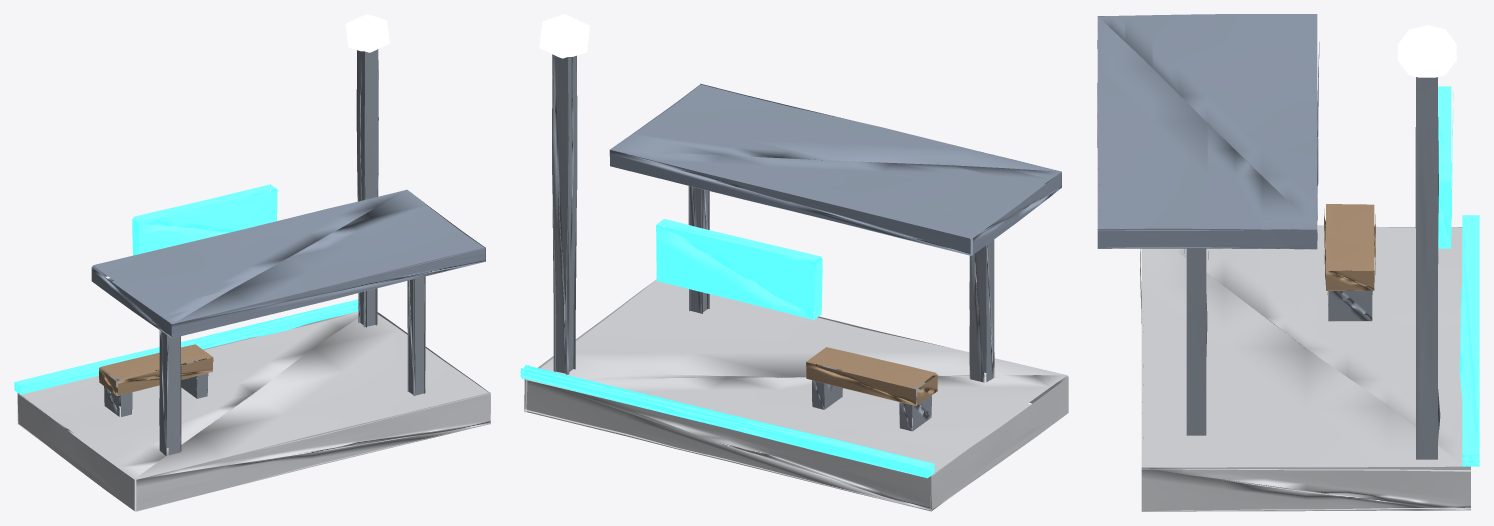
Rendered from station.glb.
3 renders of one model, left to right at view 1: azimuth 30°, elevation 25°; view 2: azimuth 150°, elevation 25°; view 3: azimuth 270°, elevation 25°, orthographic. The views are drawn at different scales.
Parts seen in each view (by area): view 1: MetroStation; view 2: MetroStation; view 3: MetroStation.
Part boxes in pixels (x1,y1,x2,y2): MetroStation: [14, 14, 490, 511]; MetroStation: [520, 14, 1068, 511]; MetroStation: [1097, 14, 1479, 511].
Bounding box in the file's own units: 2.63 × 2.39 × 1.74.
